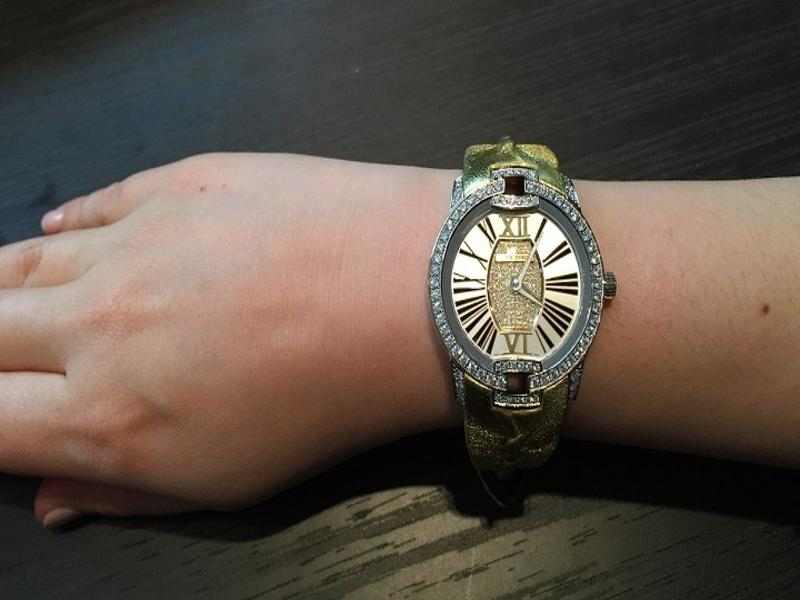watch: (424, 133, 618, 468)
